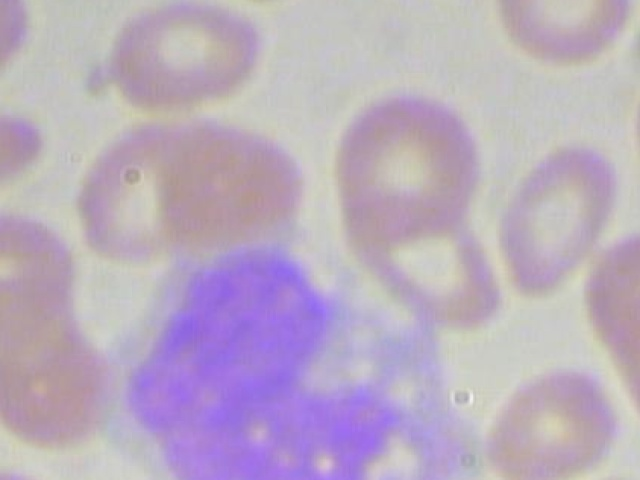RBC: (325, 80, 478, 239), (343, 189, 510, 328), (97, 0, 277, 120), (491, 137, 621, 297), (488, 340, 618, 480), (490, 0, 640, 97), (0, 98, 48, 217), (0, 455, 95, 480)
WBC: (96, 236, 486, 480)
